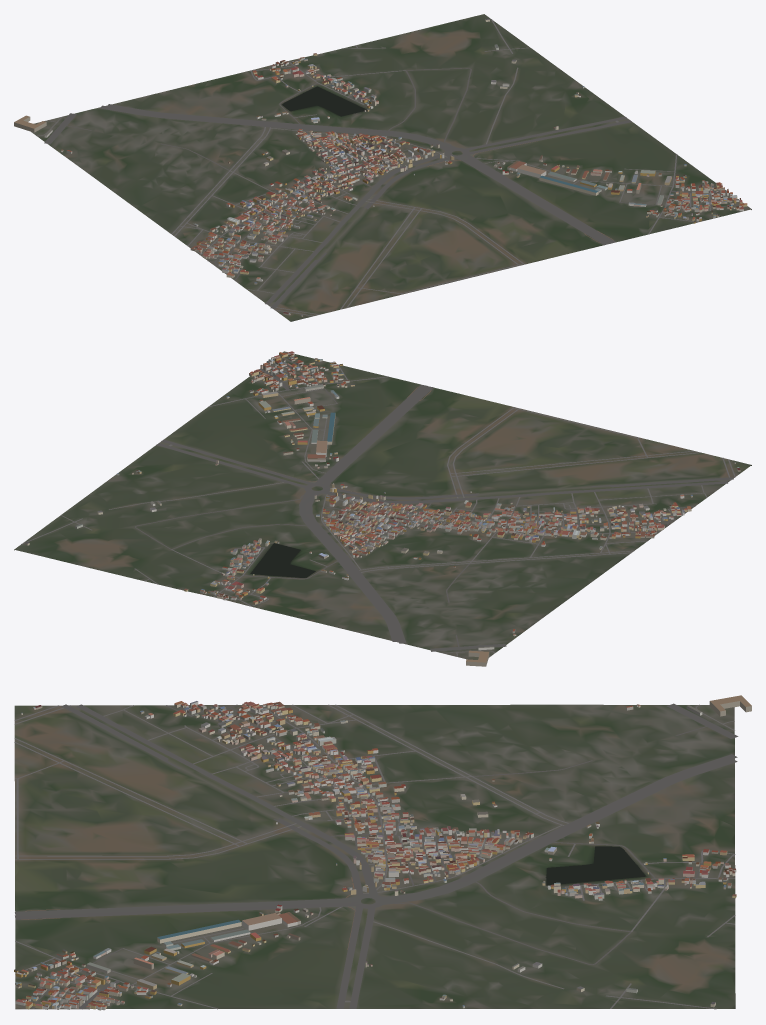
The picture shows the model from 3 angles, top to bottom: view 1: azimuth 30°, elevation 25°; view 2: azimuth 150°, elevation 25°; view 3: azimuth 270°, elevation 25°; orthographic projection. The views are drawn at different scales.
Visible parts, largest first — view 1: ground, buildings, roads, water; view 2: ground, buildings, roads, water; view 3: ground, buildings, roads, water.
Part boxes in pixels (x1,y1,x2,y2): ground: [31, 14, 751, 321]; buildings: [14, 18, 747, 316]; roads: [36, 19, 739, 316]; water: [282, 86, 366, 116]; ground: [14, 351, 751, 659]; buildings: [24, 351, 740, 666]; roads: [21, 358, 735, 656]; water: [250, 543, 315, 577]; ground: [14, 704, 735, 1009]; buildings: [14, 695, 751, 1010]; roads: [14, 703, 738, 1009]; water: [545, 846, 646, 885].
Bounding box in the file's own units: 1426 × 17.32 × 1437.
